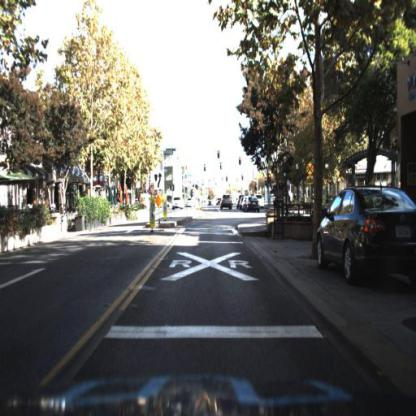car: (314, 183, 414, 285), (245, 197, 261, 214), (171, 197, 185, 214), (221, 195, 233, 212)
